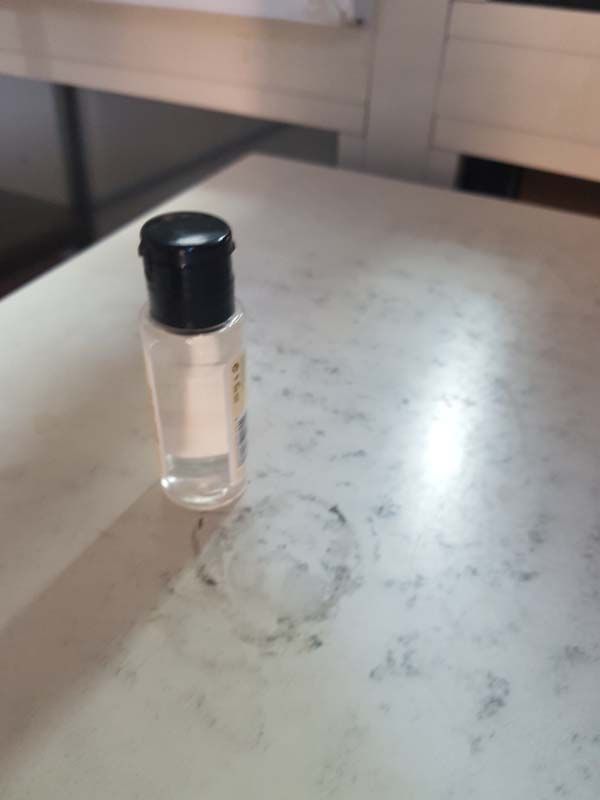redbulkolonya: (130, 205, 250, 514)
